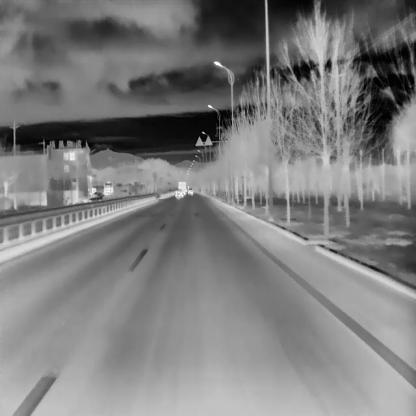car: (87, 190, 104, 202), (178, 180, 187, 195), (174, 188, 183, 198), (187, 187, 193, 194)
